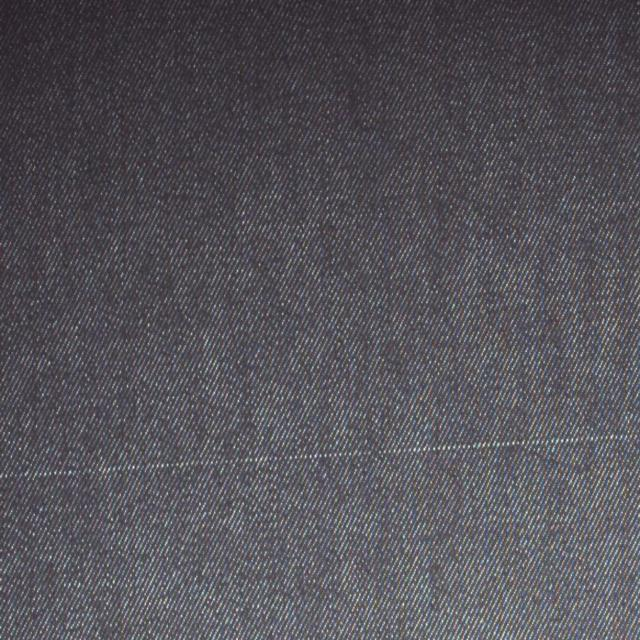Warp_Weft: (0, 426, 640, 483)
